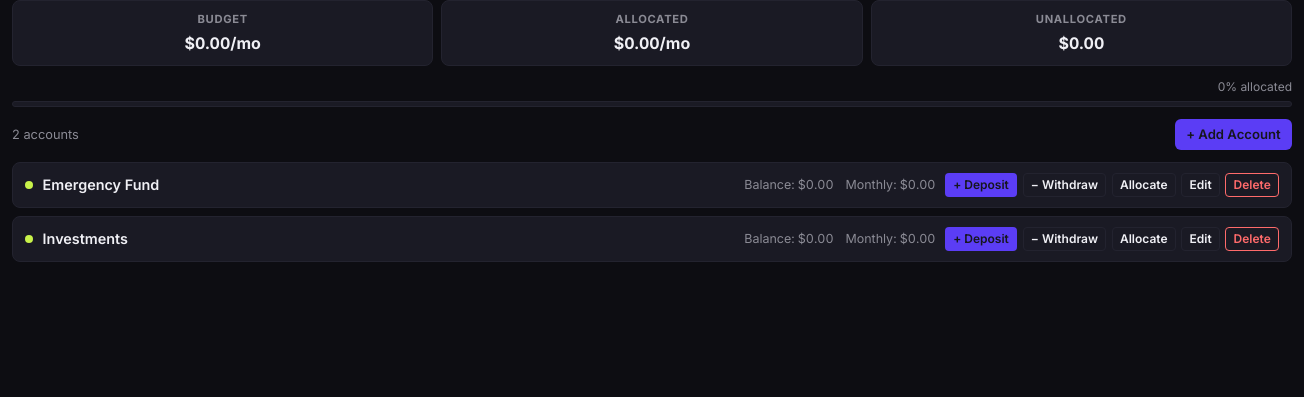
Test case: Savings — RS-13 inline deposit/withdraw › clicking "+ Deposit" reveals inline form with --deposit class
This screenshot has width=1304, height=397.
Click the button "+ Deposit" in the row of "Emergency Fund": (981, 185) x1=945 y1=173 x2=1017 y2=198
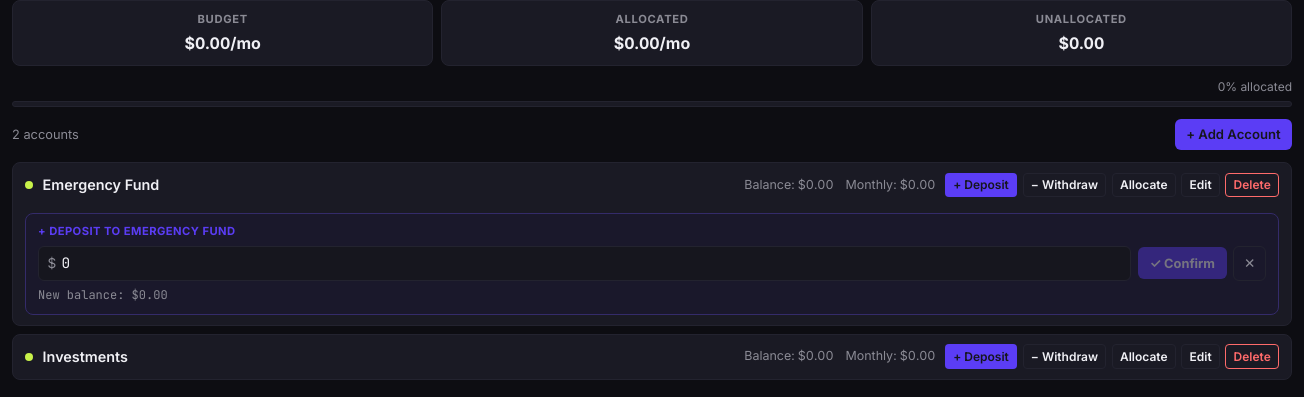
Expected: the element with class "savings-inline-form--deposit" is shown, x1=25 y1=213 x2=1279 y2=315
